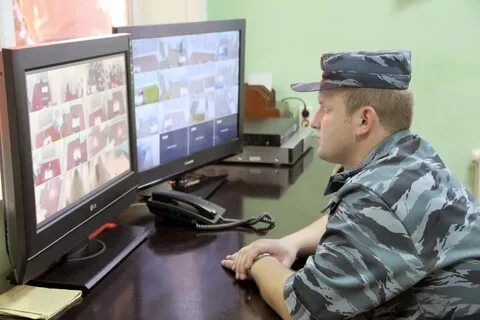awake: (269, 48, 479, 320)
